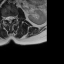CCS_normal: (8, 13, 11, 24)
LFS_normal: (13, 13, 16, 21)
LLS_normal: (11, 13, 13, 21)
RFS_normal: (3, 14, 6, 22)
RLS_normal: (6, 14, 8, 22)
